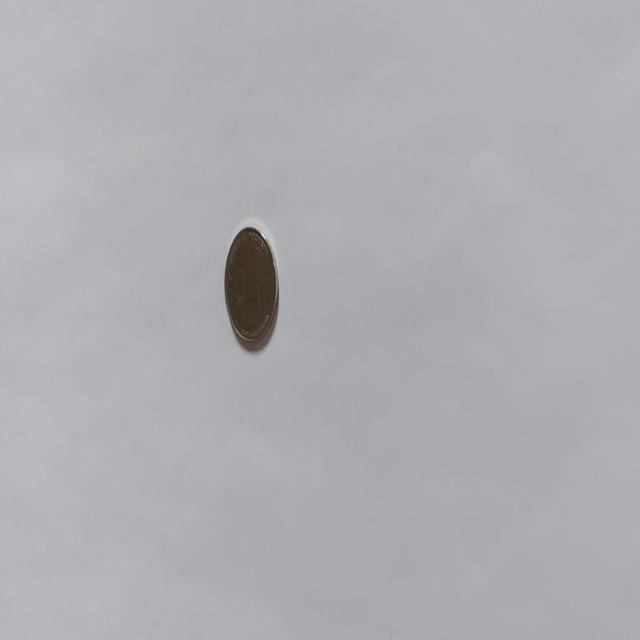seribu rupiah koin: (222, 222, 280, 348)
